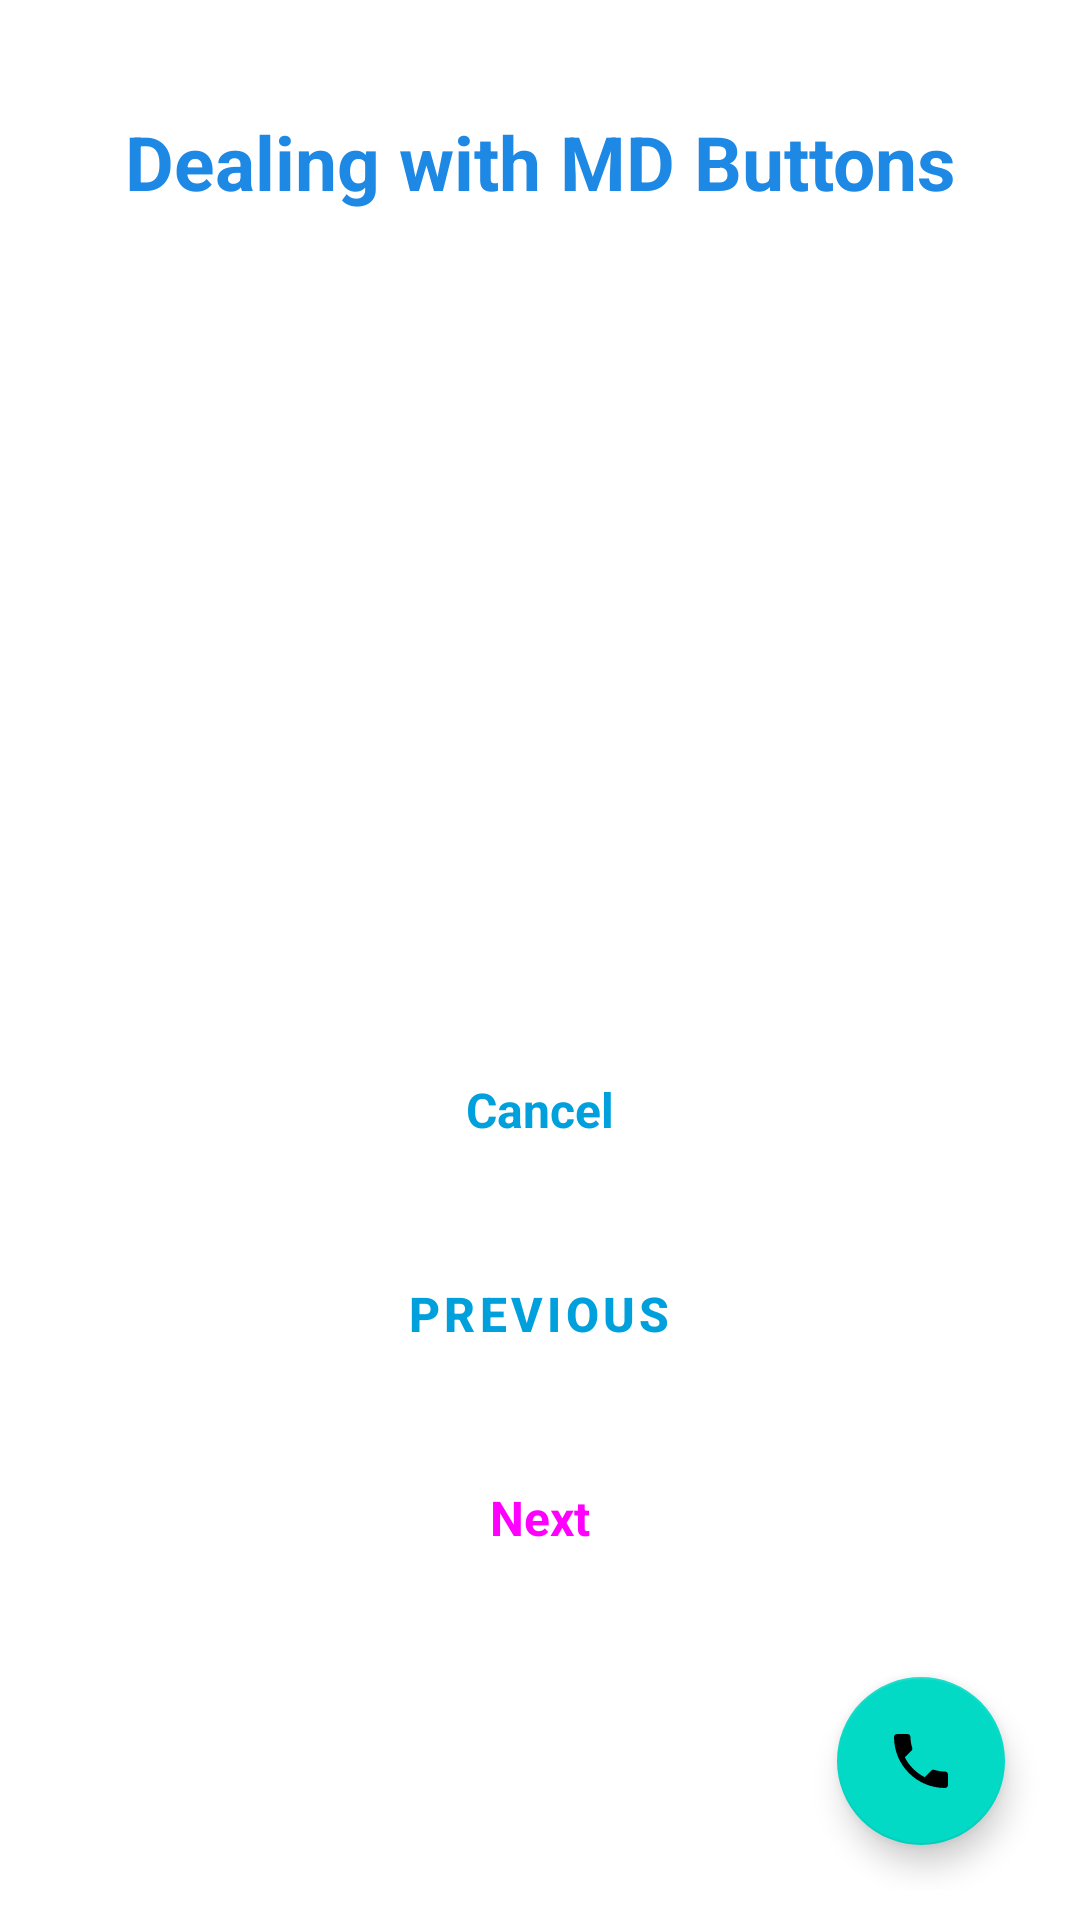

Icon bounding boxes for this 1080w x 1920h phone screenshot, format (x1, y1, x2, y2):
phone: (837, 1677, 1005, 1845)
